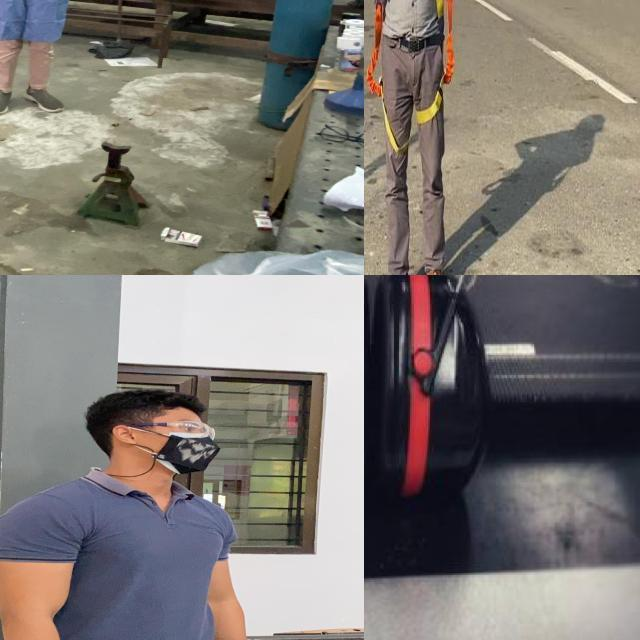Ear-protection: (364, 275, 495, 497)
Harness: (415, 0, 456, 125), (367, 0, 400, 154)
face_mask: (148, 417, 226, 471)
glasses: (119, 417, 219, 442)
head_nohelmet: (84, 386, 210, 424)
person: (0, 384, 298, 640), (0, 0, 148, 121)
shoes: (21, 84, 70, 114), (0, 84, 16, 115)
